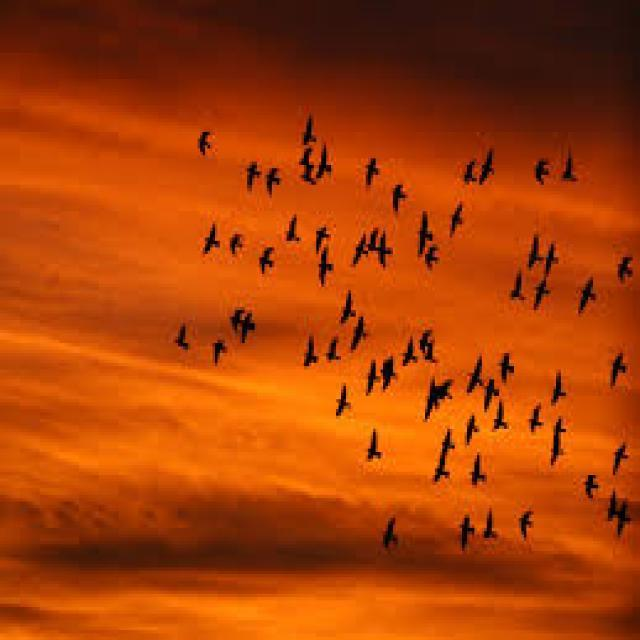bird: (330, 366, 357, 452), (595, 348, 640, 394), (456, 348, 493, 394), (192, 206, 222, 262), (518, 503, 548, 559), (512, 223, 548, 269), (347, 132, 379, 182), (554, 138, 586, 188), (536, 232, 571, 276), (478, 143, 505, 200), (338, 280, 366, 334), (295, 140, 320, 200), (455, 504, 477, 568), (532, 130, 558, 183), (240, 296, 267, 346), (176, 315, 200, 371), (347, 221, 372, 274), (573, 270, 603, 314), (361, 424, 383, 484), (370, 226, 398, 272), (618, 491, 636, 561), (262, 158, 287, 208), (226, 220, 253, 266), (613, 240, 640, 286), (380, 514, 402, 570), (414, 201, 434, 261), (498, 340, 528, 380), (466, 448, 496, 488), (348, 307, 374, 353), (503, 264, 530, 307), (278, 214, 303, 260), (316, 148, 341, 194), (484, 502, 506, 554), (316, 209, 346, 246), (300, 325, 320, 378), (253, 234, 276, 280), (479, 368, 502, 414), (546, 362, 568, 408), (522, 400, 544, 446), (610, 440, 635, 480), (551, 414, 581, 447), (314, 244, 338, 284), (448, 193, 470, 236), (288, 116, 320, 145), (532, 270, 554, 310), (600, 484, 622, 524), (361, 354, 383, 394), (242, 150, 262, 193), (422, 244, 450, 274), (544, 446, 570, 478), (495, 396, 513, 442), (398, 324, 416, 369), (452, 148, 472, 188), (195, 118, 215, 156), (424, 460, 451, 487), (211, 338, 229, 378), (580, 472, 600, 508), (456, 414, 486, 437), (324, 333, 342, 370), (441, 421, 461, 454), (392, 175, 406, 221), (226, 296, 241, 336)
